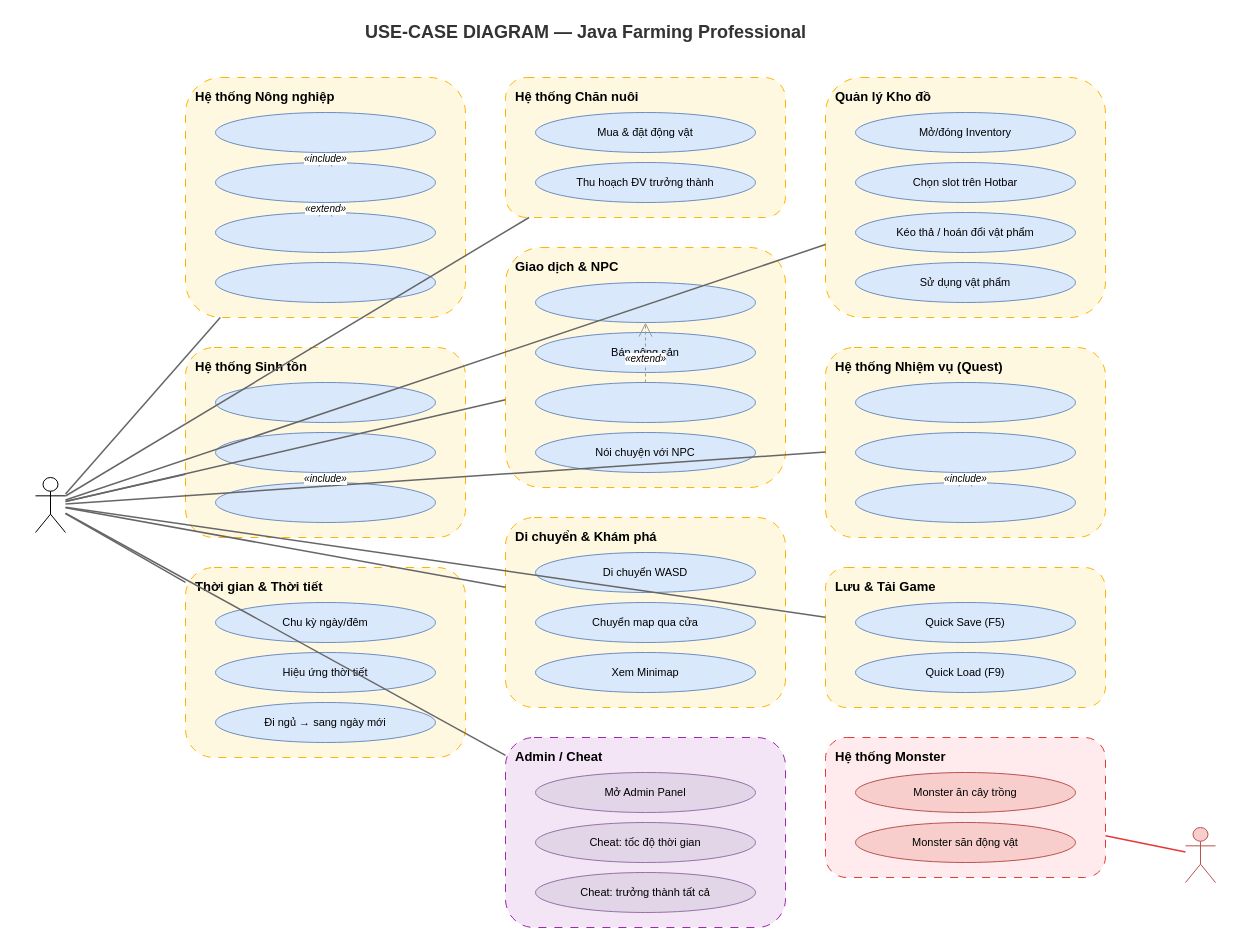
Image size: 1241x945. Some labels were removed from this diagram. Here are the shapes that lost their labels. From the top down, the centre of each, then its label:
At point 325,132: "Cuốc đất".
At point 325,182: "Gieo hạt giống".
At point 325,232: "Tưới nước".
At point 325,282: "Thu hoạch nông sản".
At point 645,302: "Mua hàng từ Trader".
At point 325,402: "Ăn thực phẩm".
At point 645,402: "Thương lượng giá".
At point 965,402: "Nhận nhiệm vụ từ NPC".
At point 325,452: "Theo dõi HP & Hunger".
At point 965,452: "Hoàn thành nhiệm vụ".
At point 50,504: "Người chơi".
At point 325,502: "Ngất xỉu khi HP = 0".
At point 965,502: "Nộp & nhận thưởng".
At point 1200,854: "Monster".
